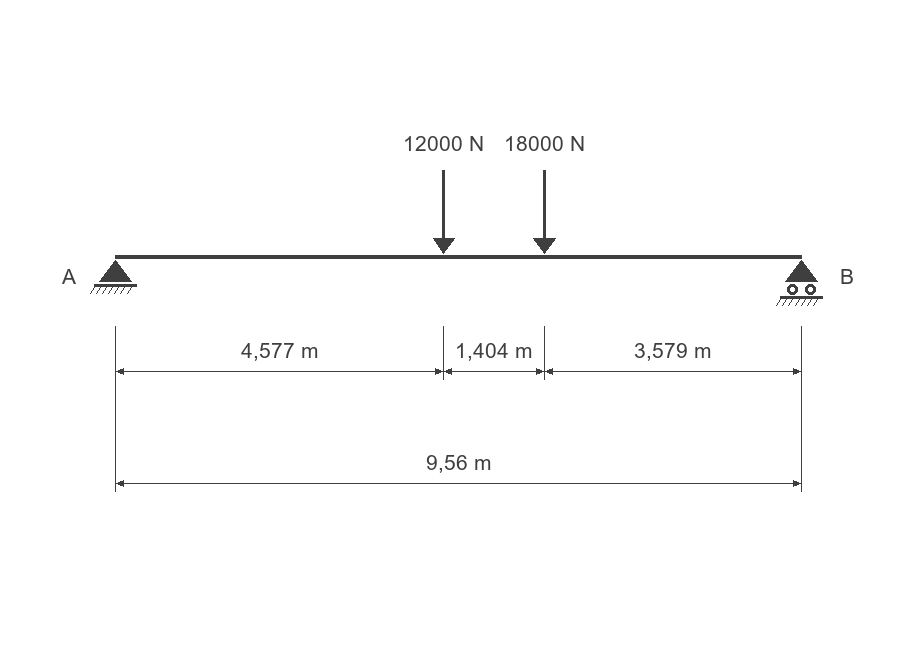pin_support: (90, 260, 137, 294)
point_load: (533, 170, 556, 254), (433, 170, 455, 254)
roller_support: (776, 260, 823, 306)
